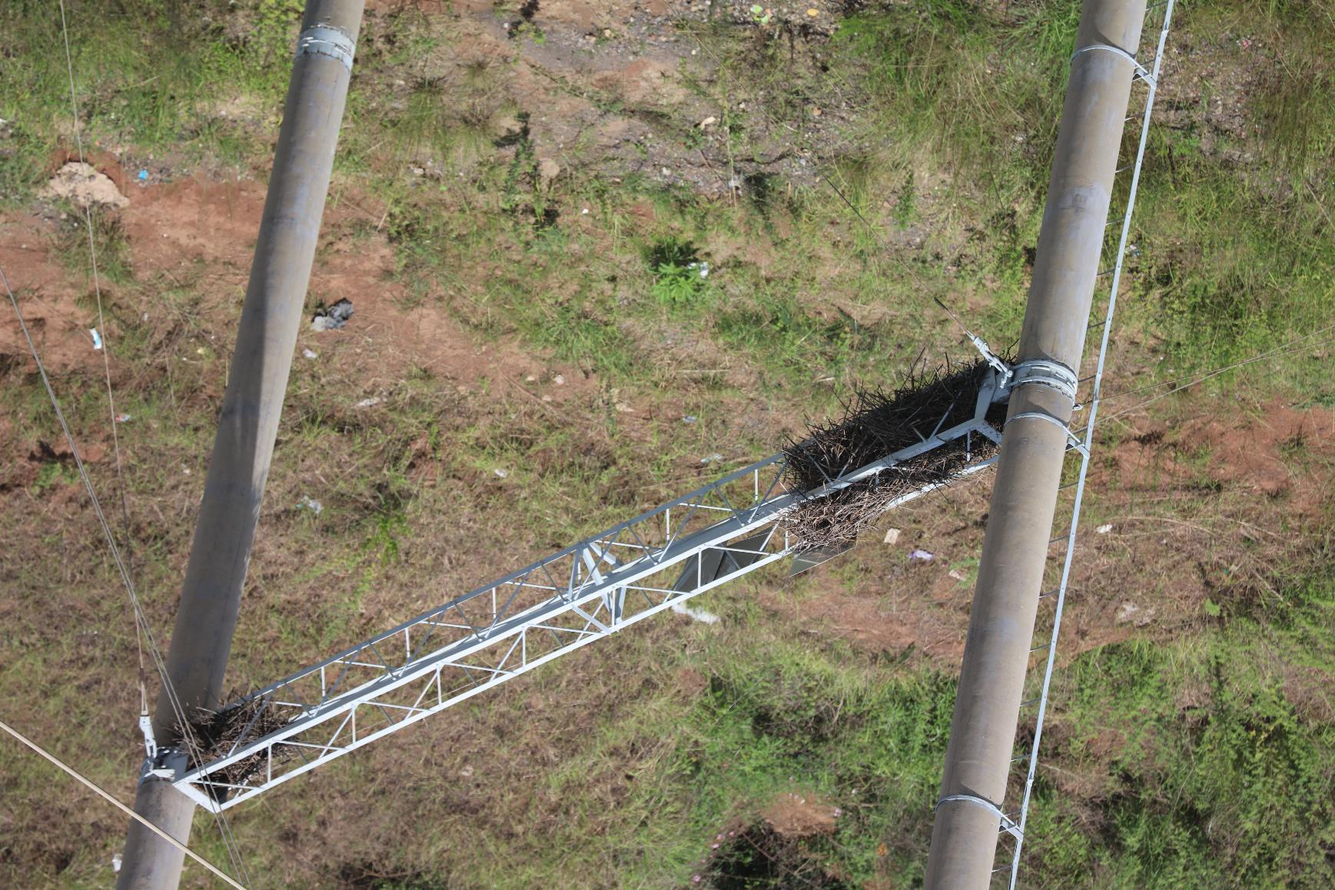nest: (775, 354, 1015, 547), (170, 684, 297, 787)
